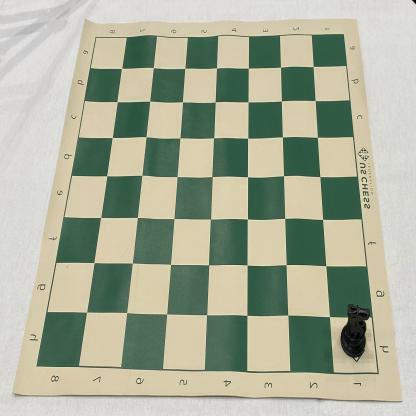black-knight: (340, 303, 370, 358)
